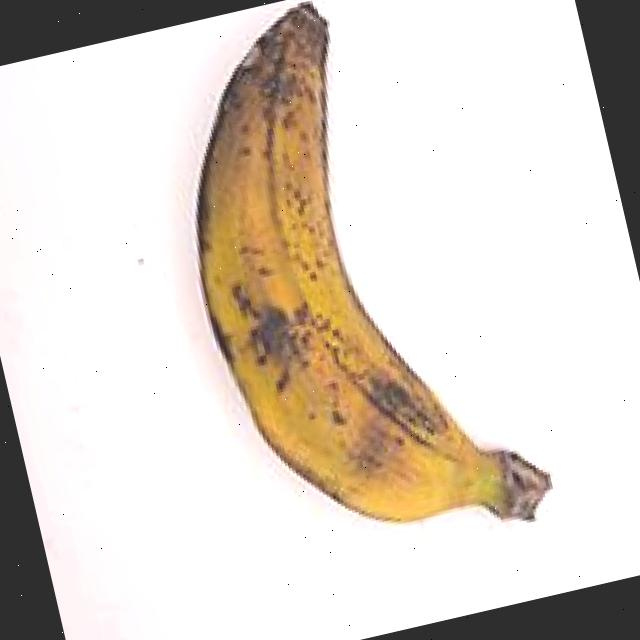Overripe: (67, 0, 588, 623)
